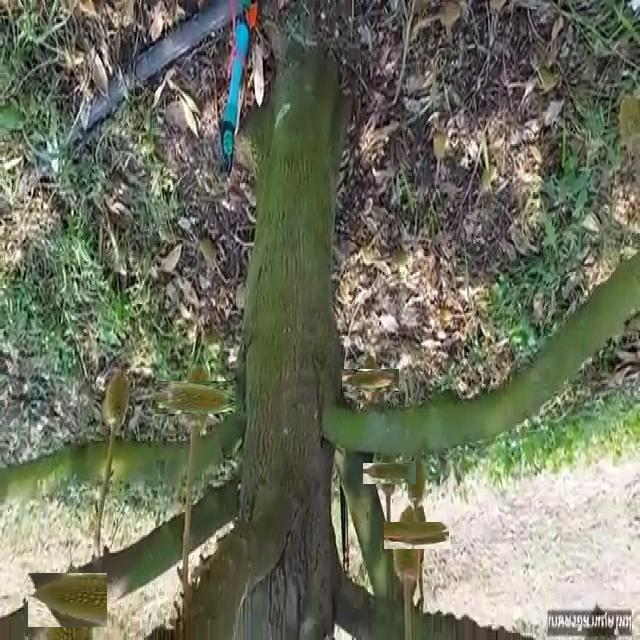durian: (34, 566, 101, 634), (167, 369, 223, 426), (391, 503, 424, 592), (102, 364, 133, 434), (394, 512, 440, 559), (350, 360, 391, 400), (371, 455, 409, 492), (403, 457, 428, 511)
